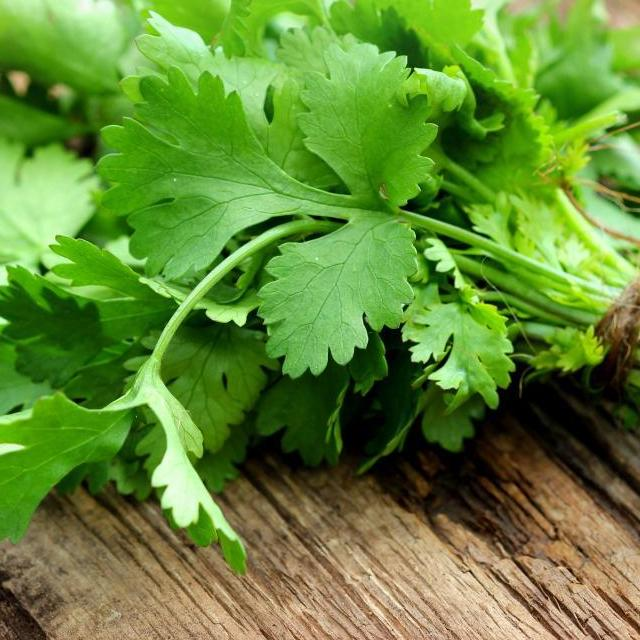cilantro: (0, 0, 631, 521)
